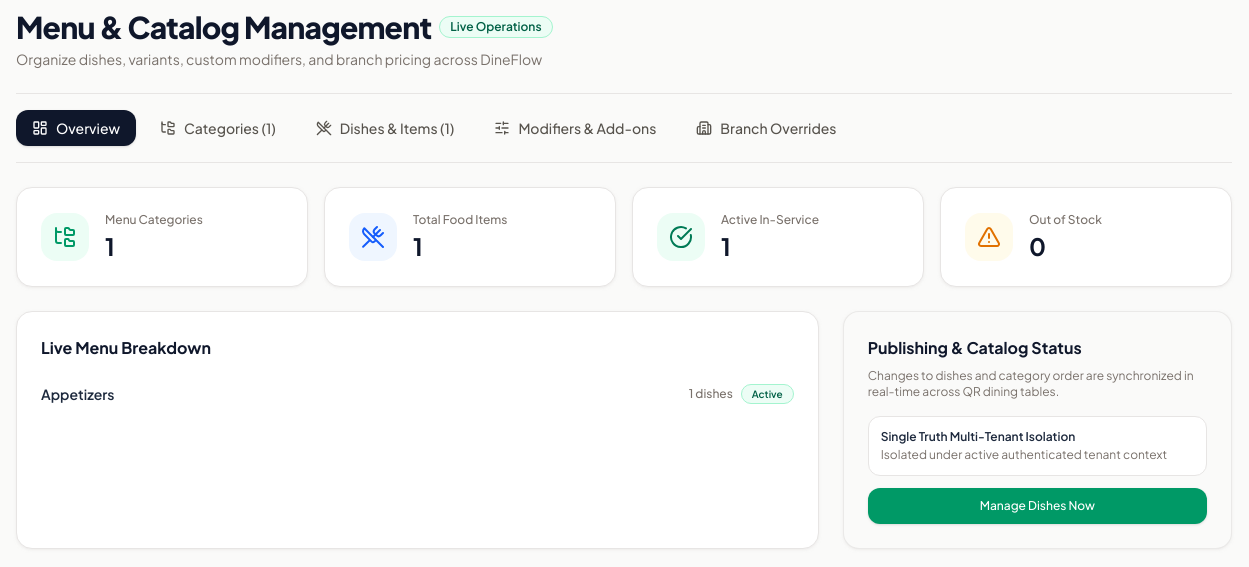
Test: MenuManagementPage Dashboard & Catalog UI › switches to Branch Overrides tab and displays pricing table
The width and height of the screenshot is (1249, 567).
Click the button "Branch Overrides" at (766, 128), box [680,110,852,146]
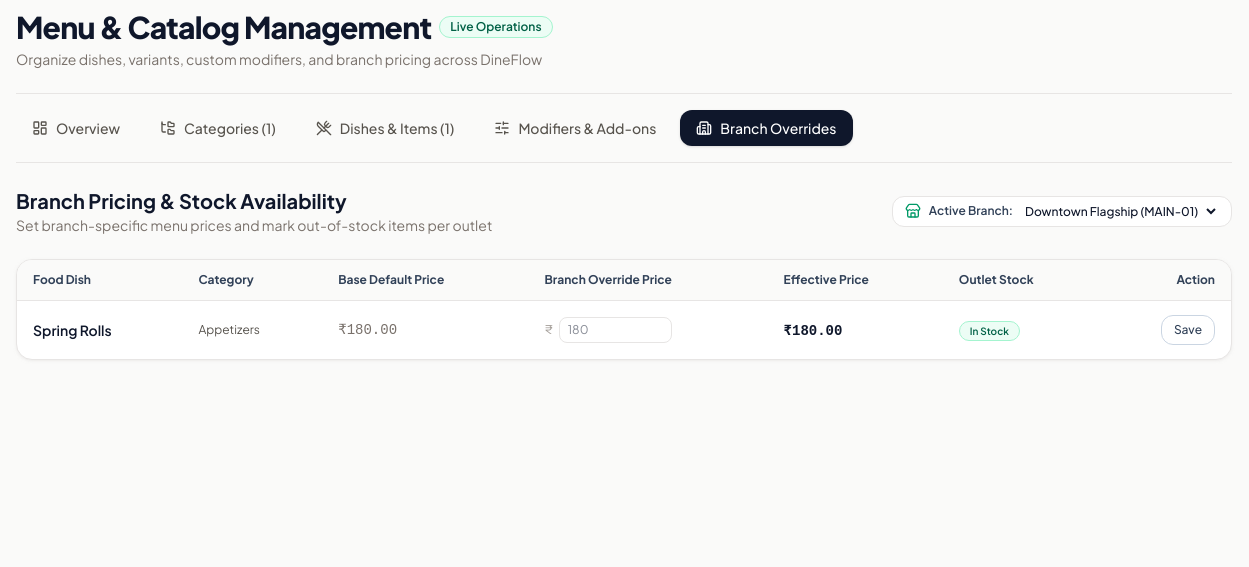
Expected: the heading "Branch Pricing & Stock Availability" is shown, [16,188,347,213]
Expected: the text "Spring Rolls" is shown, [17,300,182,359]
